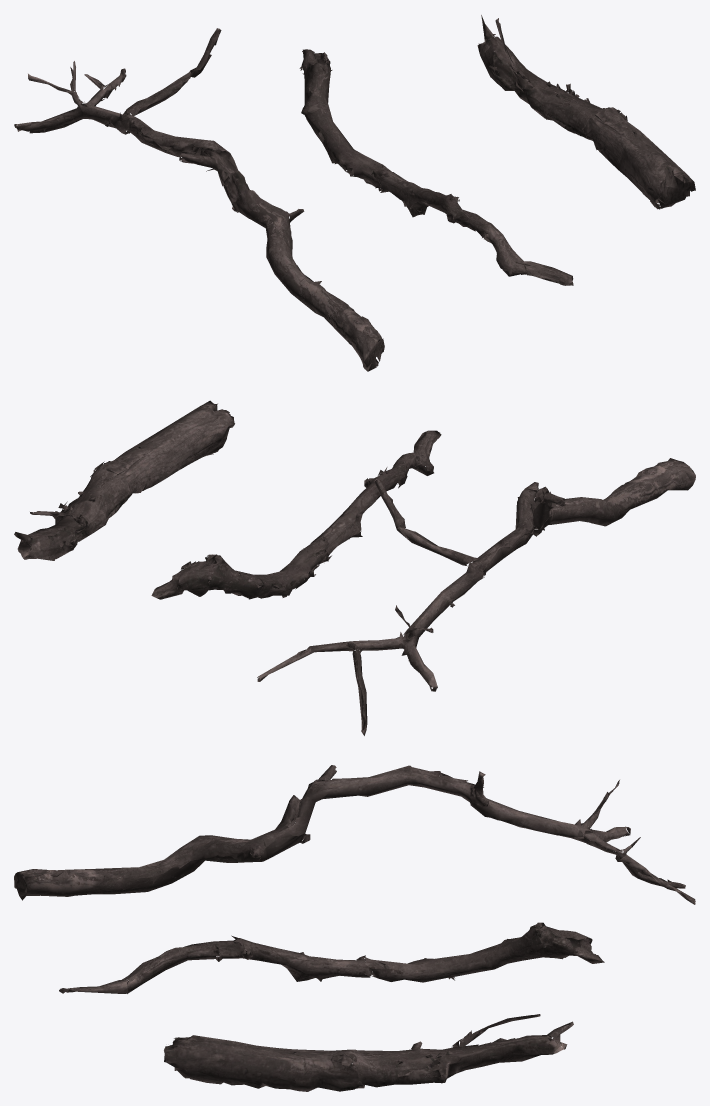
File: ph_branches.gltf
3 renders of one model, top to bottom at view 1: azimuth 30°, elevation 25°; view 2: azimuth 150°, elevation 25°; view 3: azimuth 270°, elevation 25°, orthographic. The views are drawn at different scales.
Parts seen in each view (by area): view 1: ph_branches; view 2: ph_branches; view 3: ph_branches.
Boxes of the visible parts, x1,y1,x2,y2 form: ph_branches: (14, 15, 695, 371); ph_branches: (14, 400, 695, 735); ph_branches: (14, 765, 695, 1091).
Size of the model in its own units: 1.06 by 0.3401 by 1.3.
1 material, 1 textured.
